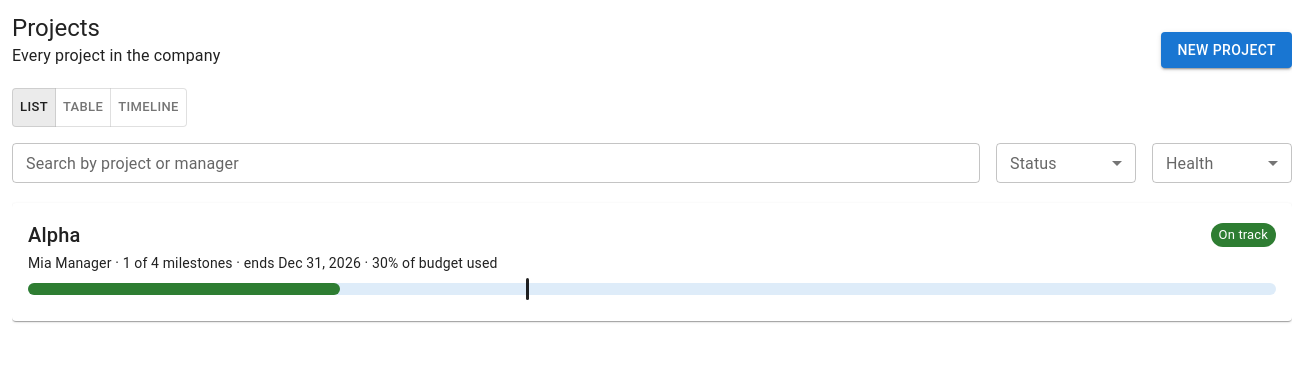
Projects list › filters by status
Check: the link "Alpha" is shown, box [28,219,80,251]
What coordinates should you click on to do the following:
click the dropdown named "Status" next to "Status"
I would click on:
 (1066, 163)
Its box is [996,143,1136,183].
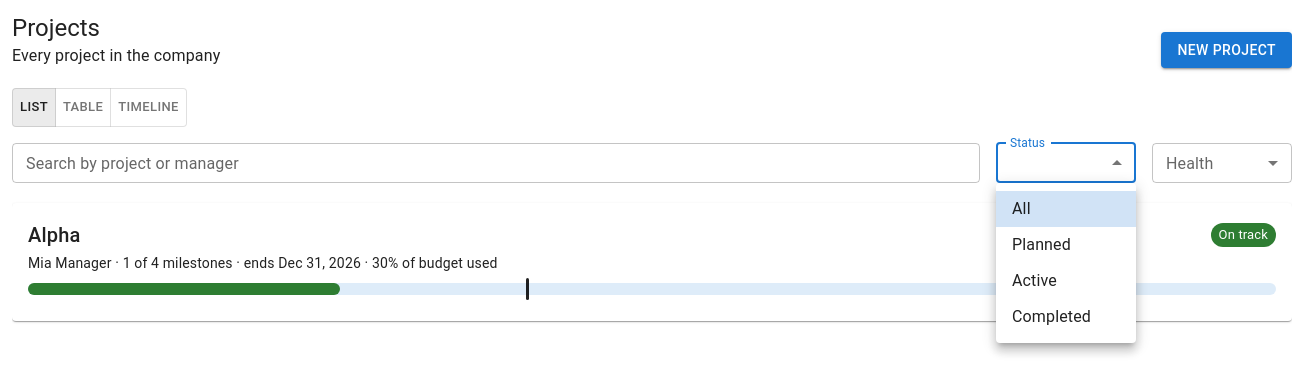
Check: the options read "All", "Planned", "Active", "Completed", in this order
What coordinates should you click on to do the following:
click the option "Completed"
I would click on:
 (1052, 316)
Its box is [1012,307,1091,326].
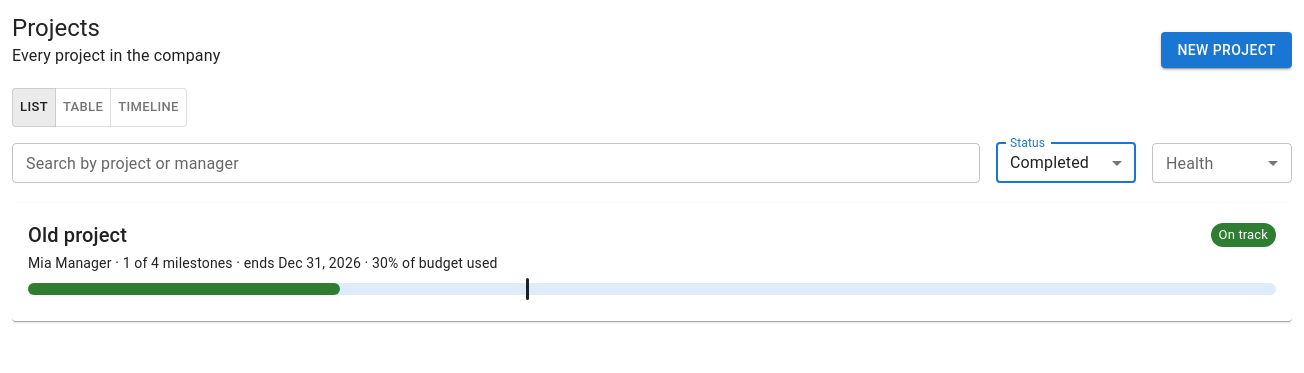
Check: the link "Old project" is shown, box [28,219,127,251]
Check: the link "Alpha" is gone
